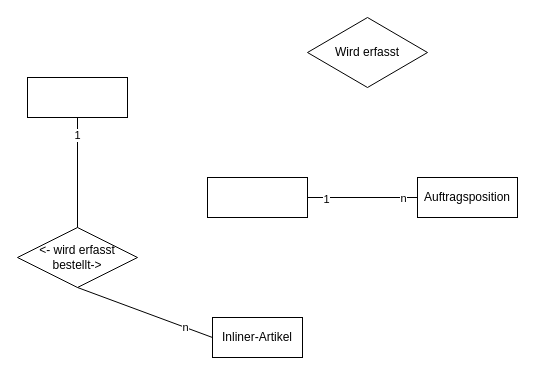
The diagram is 535 pixels wide and 375 high, and some of its shapes have lost their labels. The box of each missing label's shape, as (x1, y1, x2, y2) in pixels:
Auftrag: (206, 176, 308, 218)
Kunde: (26, 76, 128, 118)
